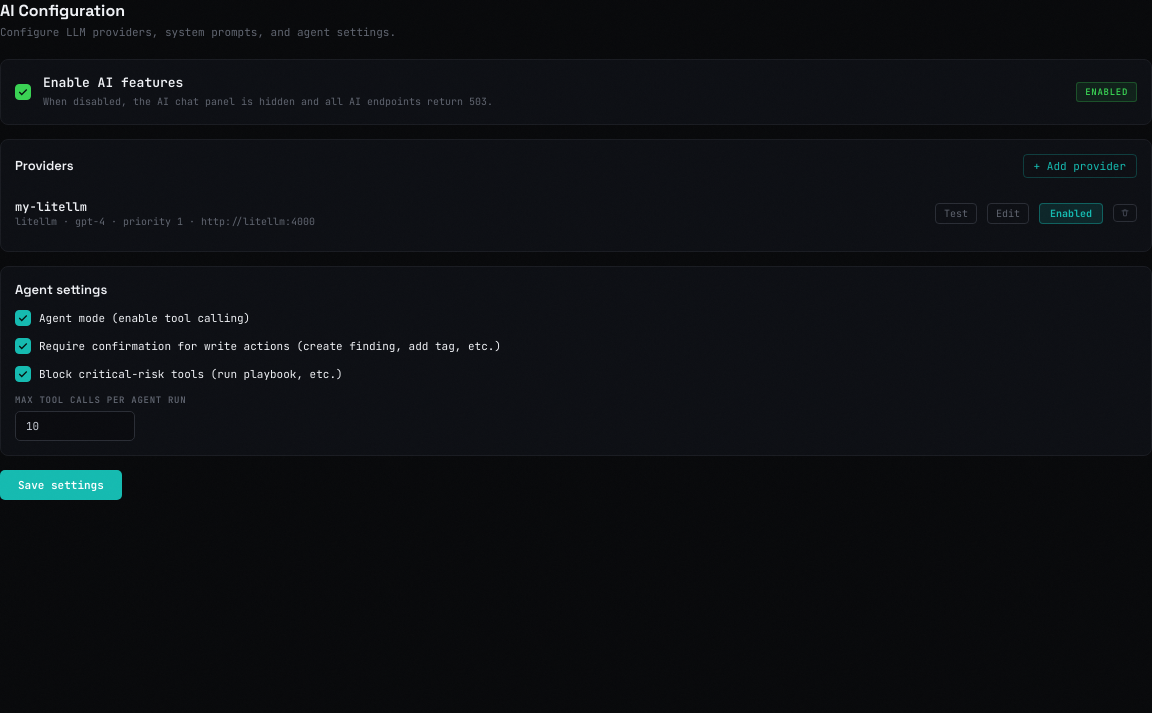
AISection — edit provider model fetch › uses the provider-scoped endpoint (server-side stored key) when no new key was typed
Click the button "Edit": (1008, 213) left=987, top=202, right=1029, bottom=224
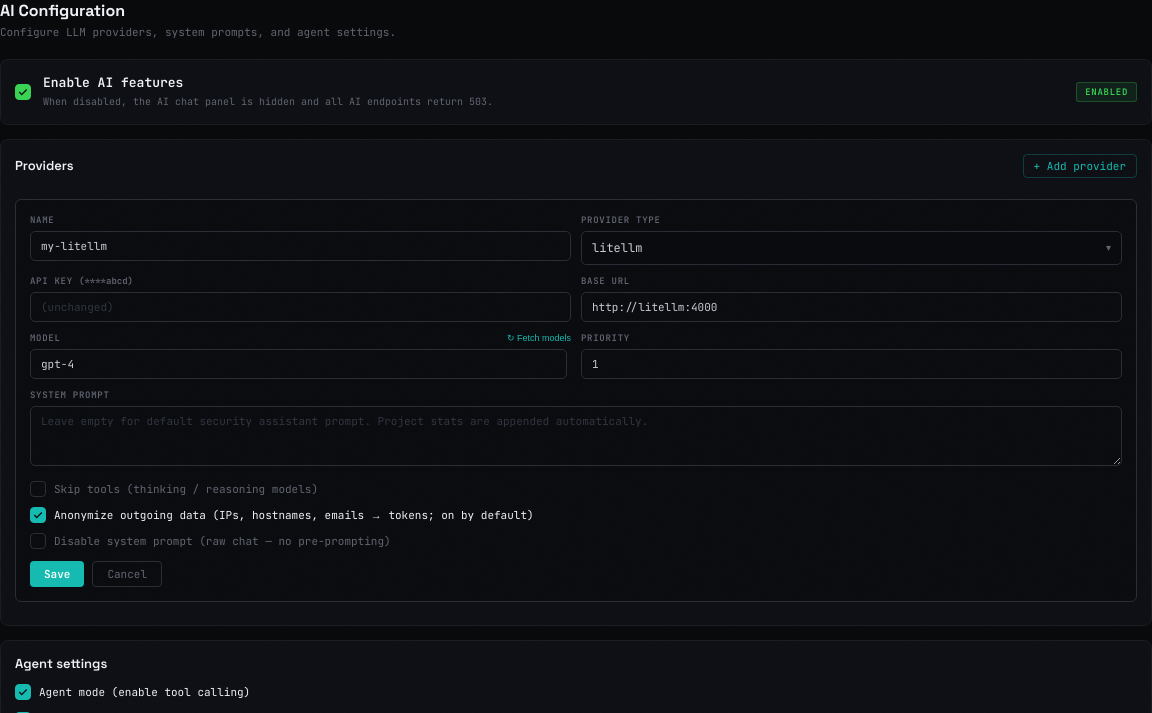
Click the button "↻ Fetch models": (539, 338) left=507, top=332, right=571, bottom=344
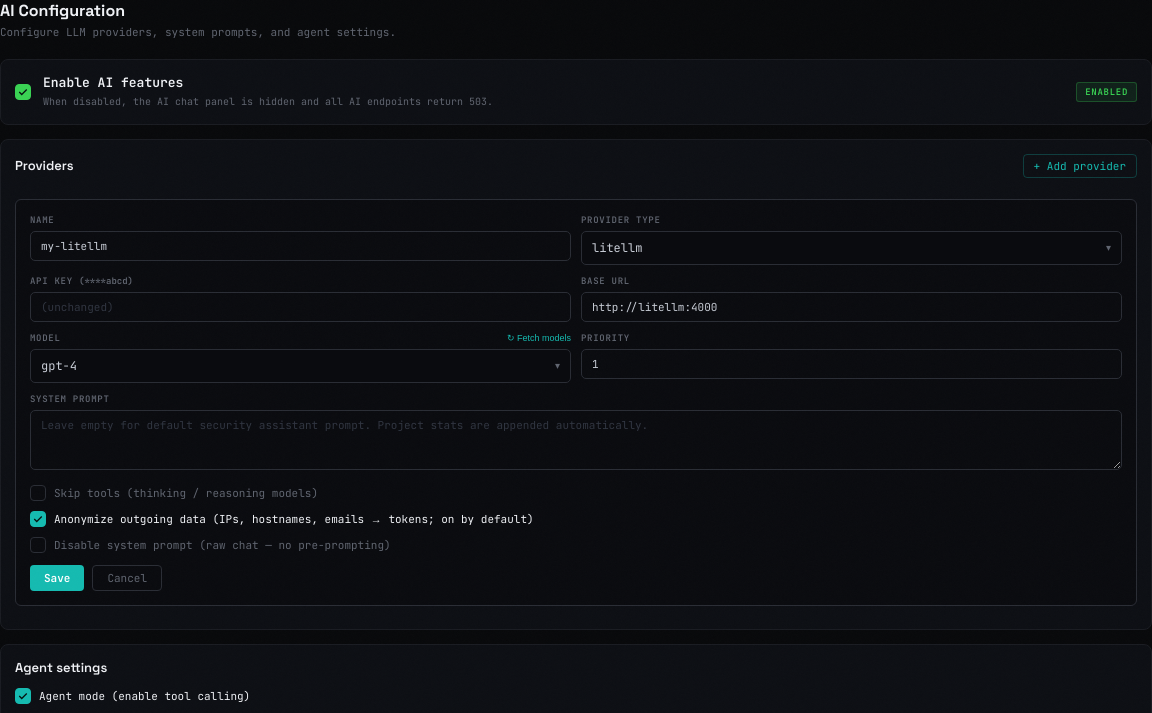
Click the text "gpt-4": (59, 366) left=41, top=358, right=77, bottom=374
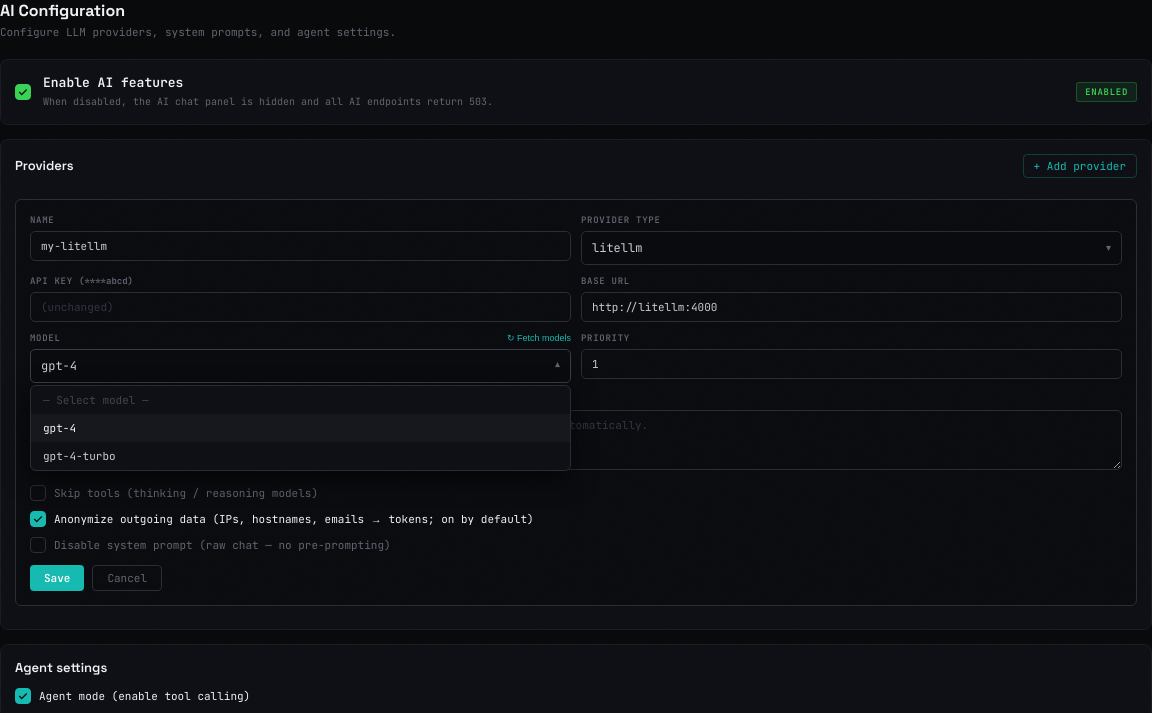
Now the option "gpt-4-turbo" is shown, box left=31, top=442, right=570, bottom=470
